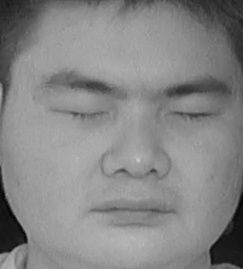blink: (53, 96, 113, 135), (168, 99, 218, 133)
mouth: (84, 188, 179, 236)
